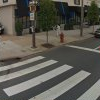crosswalk: (0, 55, 98, 100)
